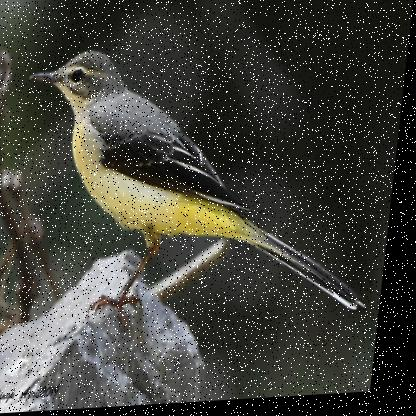Burung: (8, 37, 396, 339)
